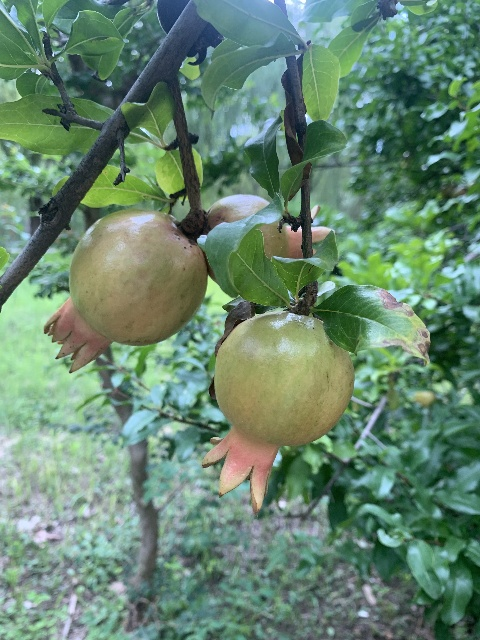mid-growth: (201, 310, 354, 514), (42, 208, 206, 376), (208, 194, 336, 259)
